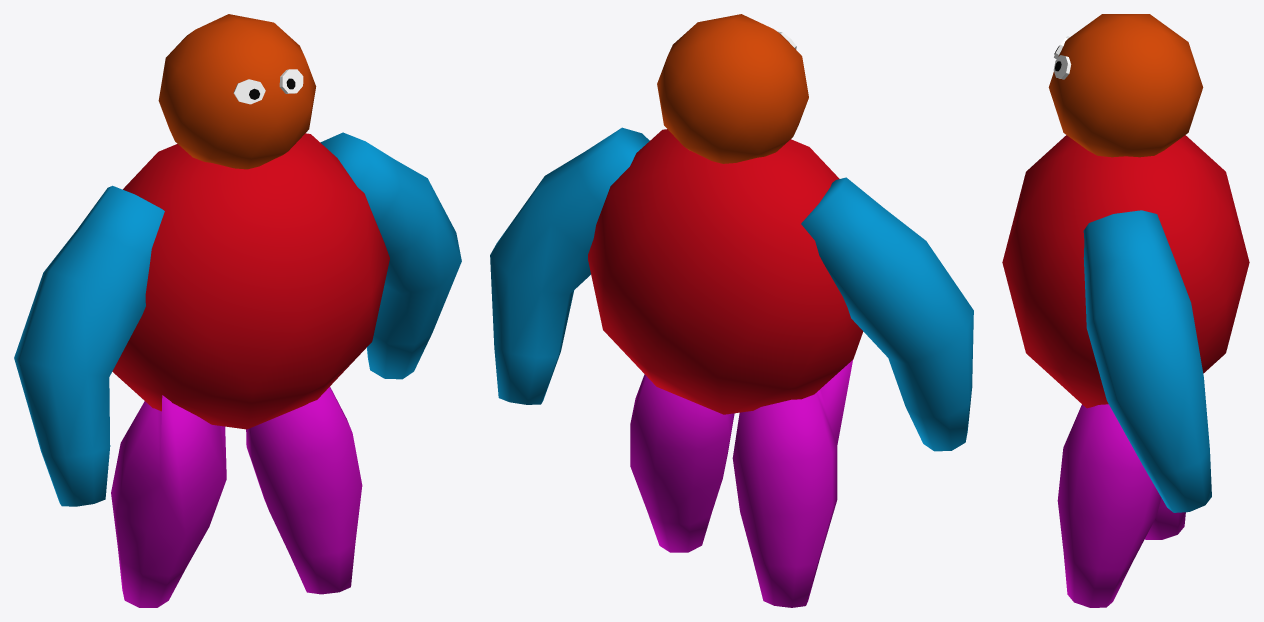
File: bigboi_rigged_000006.obj
3 views of the same model, side by side, from view 1: azimuth 30°, elevation 25°; view 2: azimuth 150°, elevation 25°; view 3: azimuth 270°, elevation 25° (orthographic). The views are drawn at different scales.
Parts seen in each view (by area): view 1: Cube_Cube_Torso, Cube_Cube_Arms, Cube_Cube_Legs, Cube_Cube_Head, Cube_Cube_Eye; view 2: Cube_Cube_Torso, Cube_Cube_Arms, Cube_Cube_Legs, Cube_Cube_Head; view 3: Cube_Cube_Torso, Cube_Cube_Arms, Cube_Cube_Head, Cube_Cube_Legs, Cube_Cube_Eye.
Boxes of the visible parts, x1,y1,x2,y2 form: Cube_Cube_Torso: (112, 133, 389, 429); Cube_Cube_Arms: (14, 132, 461, 506); Cube_Cube_Legs: (111, 387, 362, 607); Cube_Cube_Head: (158, 14, 316, 169); Cube_Cube_Eye: (233, 69, 303, 104); Cube_Cube_Torso: (588, 129, 863, 414); Cube_Cube_Arms: (490, 127, 973, 451); Cube_Cube_Legs: (630, 360, 852, 607); Cube_Cube_Head: (657, 14, 808, 163); Cube_Cube_Torso: (1002, 135, 1249, 408); Cube_Cube_Arms: (1083, 210, 1211, 512); Cube_Cube_Head: (1048, 14, 1203, 157); Cube_Cube_Legs: (1057, 404, 1185, 607); Cube_Cube_Eye: (1053, 36, 1071, 79).
Size of the model in its own units: 6.63 by 7.87 by 3.2.
